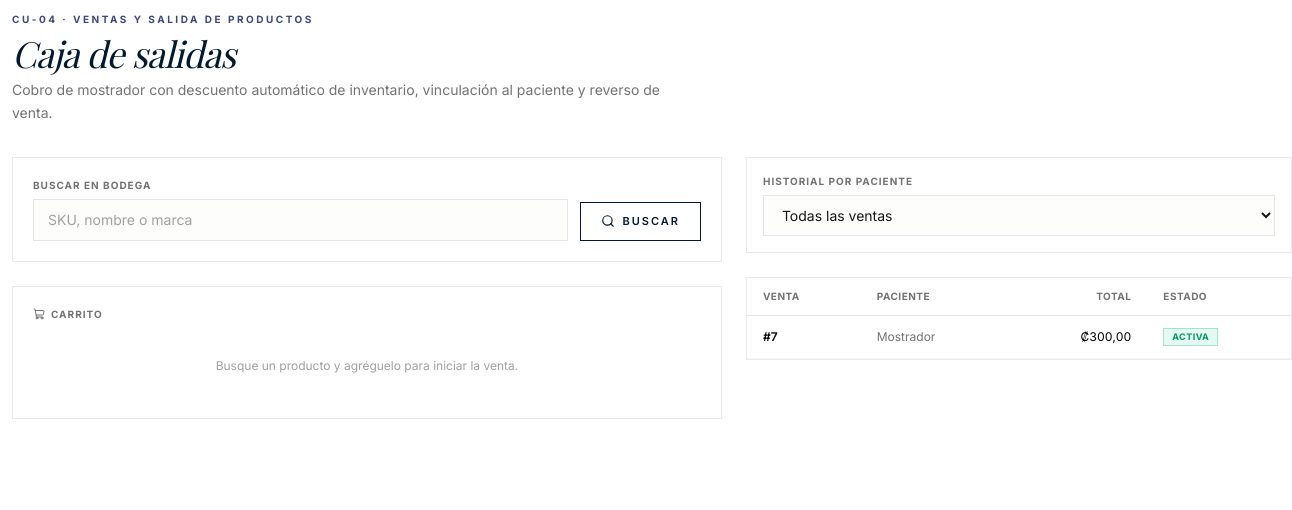
Test: VentasPage › un producto sin existencias no se puede agregar
In the field labelled "Buscar en bodega": (300, 220) [33, 198, 568, 240], type "ray"
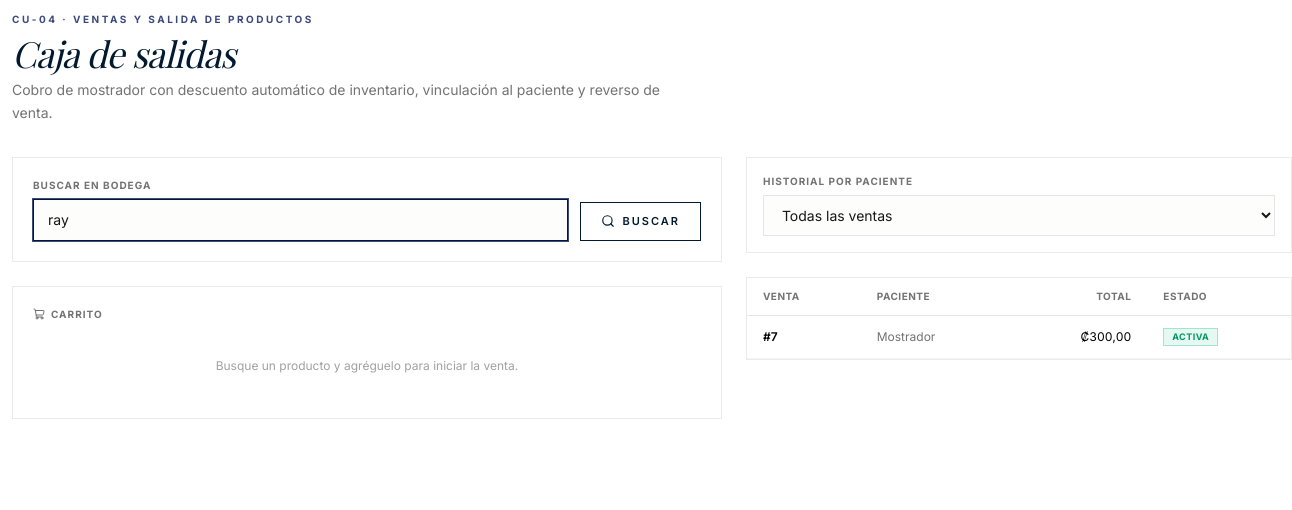
Click the button "Buscar": (640, 221) [580, 202, 701, 240]
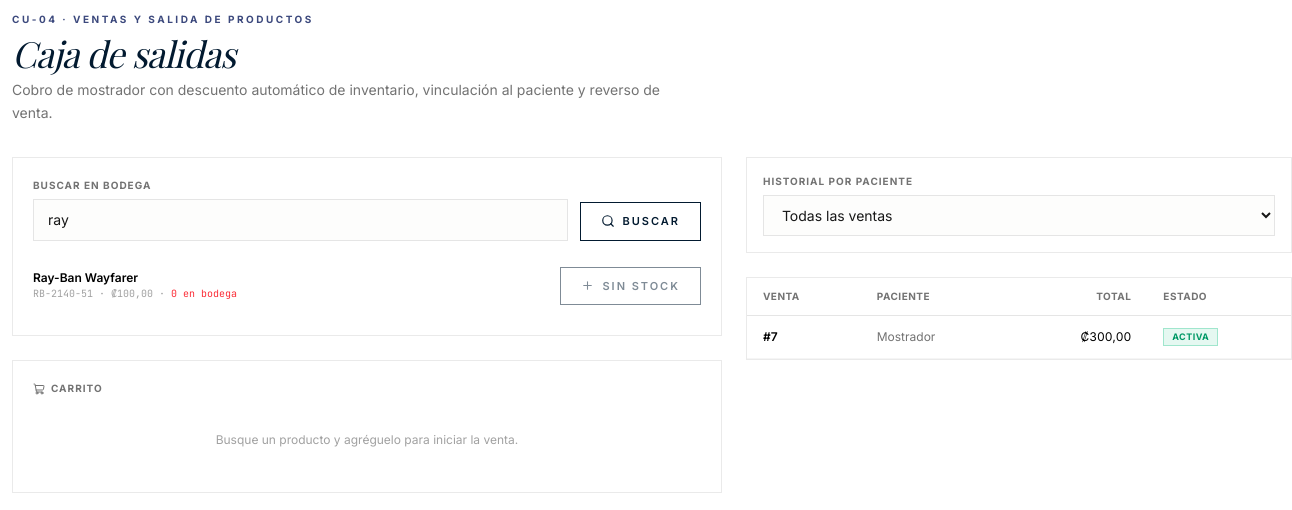
Now the button "Sin stock" is disabled, box [560, 266, 701, 305]
